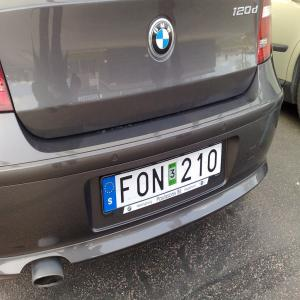Vehicle-registration-plate: (98, 140, 232, 232)
